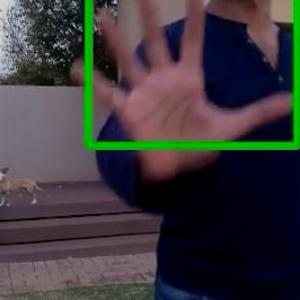follow_hand: (62, 0, 299, 178)
